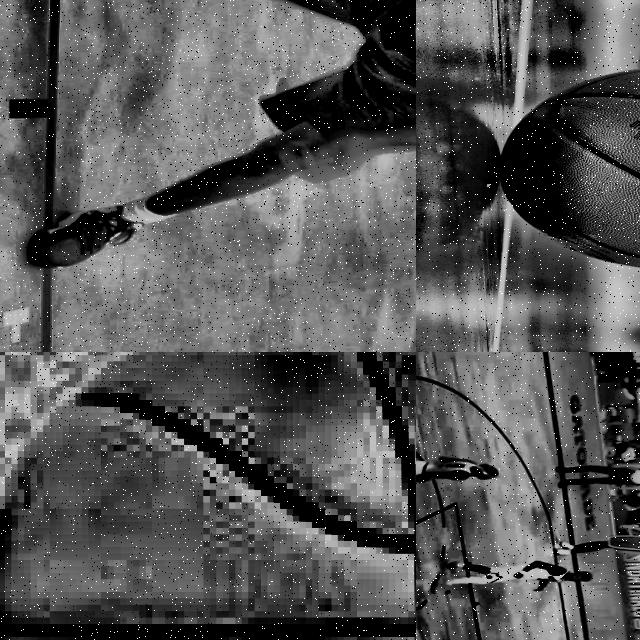Basketball: (0, 352, 416, 640), (500, 69, 640, 268)
